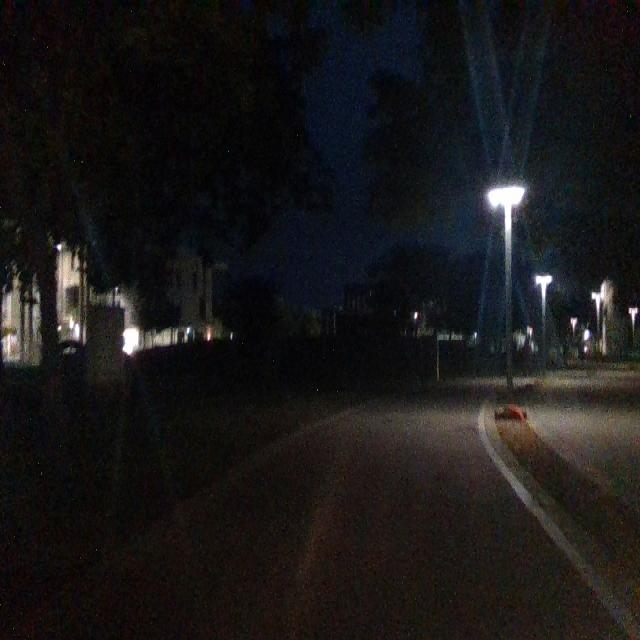lane: (66, 408, 631, 640)
